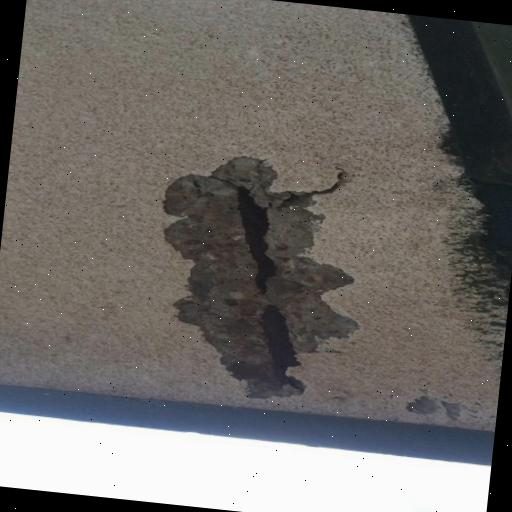spalling: (111, 119, 397, 409)
